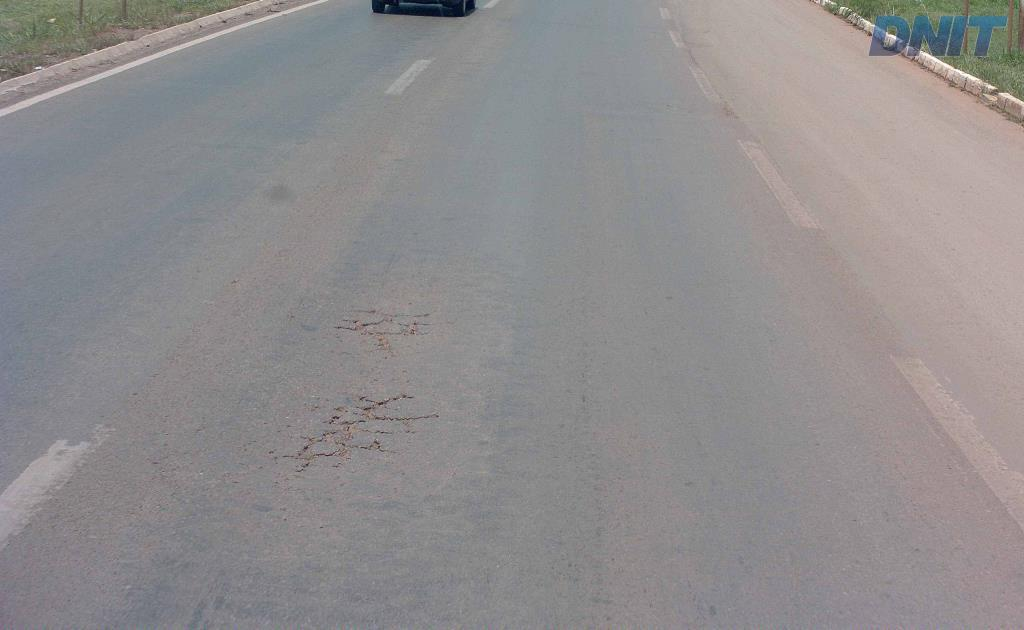crack: (271, 392, 439, 472)
